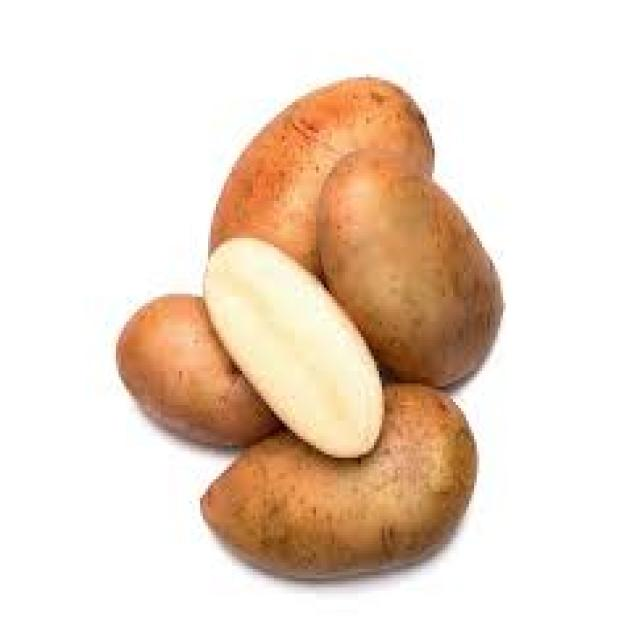Potato: (208, 60, 451, 292), (193, 219, 387, 489)
